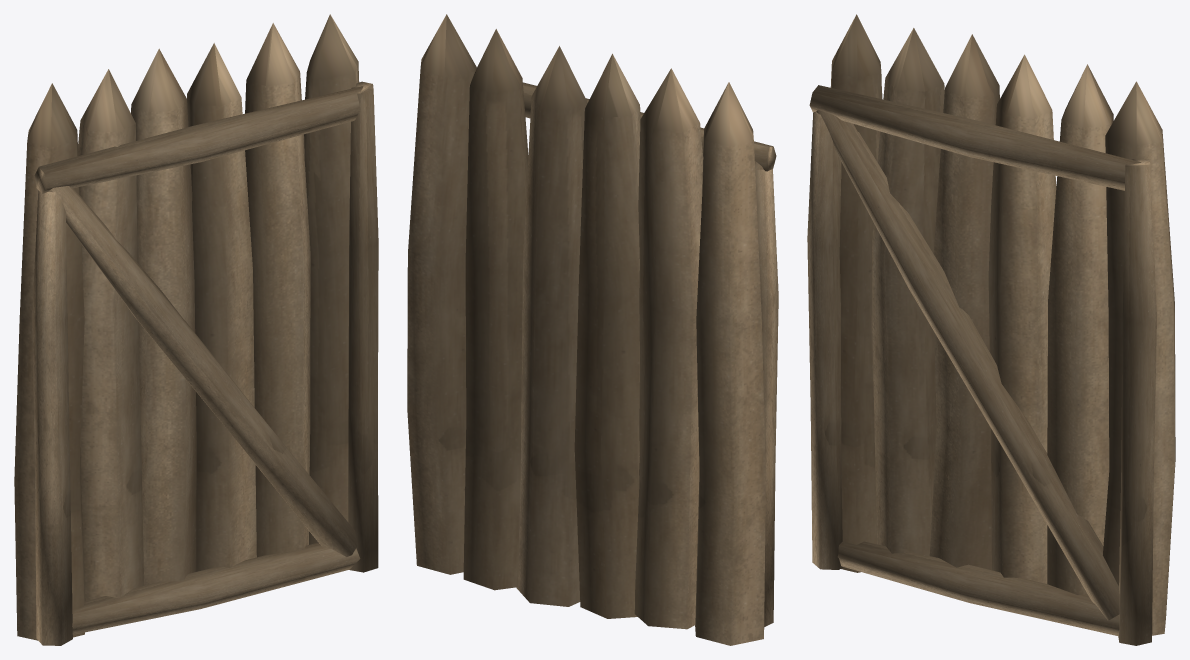
File: GateRight_LOD0.fbx
3 renders of one model, left to right at view 1: azimuth 30°, elevation 25°; view 2: azimuth 150°, elevation 25°; view 3: azimuth 330°, elevation 25°, orthographic.
Parts seen in each view (by area): view 1: Gate_Right_LOD0; view 2: Gate_Right_LOD0; view 3: Gate_Right_LOD0.
Part boxes in pixels (<box>): Gate_Right_LOD0: <box>14,14,378,645</box>; Gate_Right_LOD0: <box>407,14,778,645</box>; Gate_Right_LOD0: <box>807,14,1175,645</box>.
Bounding box in the file's own units: 13.21 × 19.61 × 2.89.
